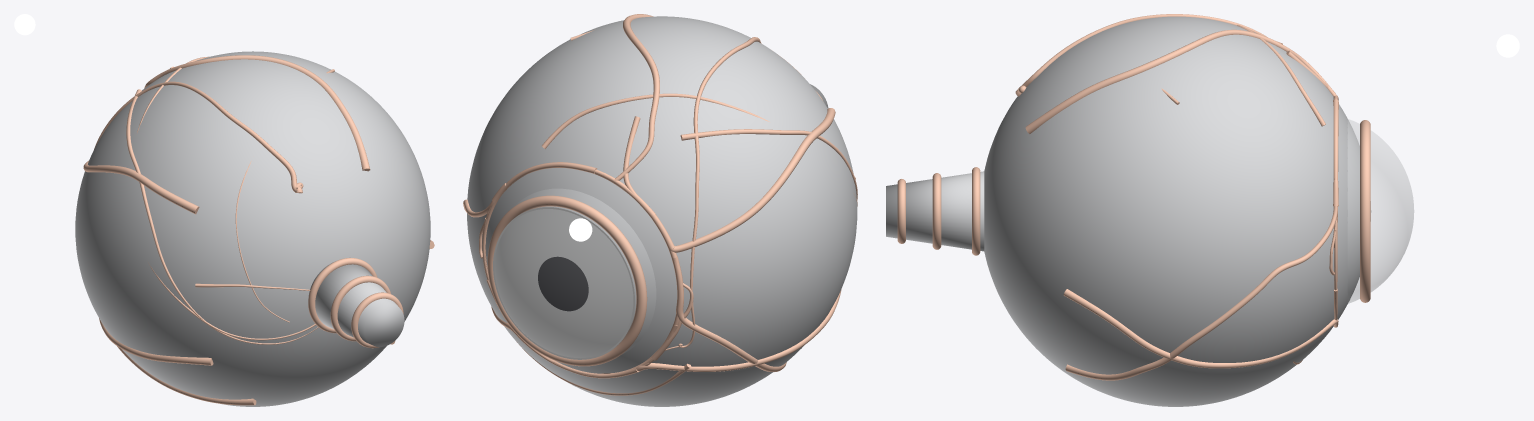
File: eyeball.glb
The picture shows the model from 3 angles, left to right: view 1: azimuth 30°, elevation 25°; view 2: azimuth 150°, elevation 25°; view 3: azimuth 270°, elevation 25°; orthographic projection. The views are drawn at different scales.
Visible parts, largest first — view 1: Sclera, Vessels, OpticNerve, NerveBand, NerveBand.001, NerveBand.002; view 2: Sclera, Cornea, Iris, Vessels, IrisRing, Pupil, Catchlight; view 3: Sclera, Vessels, Cornea, OpticNerve, IrisRing, NerveBand, NerveBand.001, NerveBand.002.
Boxes of the visible parts, <box> form: Sclera: <box>75,51,430,406</box>; Vessels: <box>83,55,434,405</box>; OpticNerve: <box>308,261,404,346</box>; NerveBand: <box>308,257,377,333</box>; NerveBand.001: <box>330,275,390,341</box>; NerveBand.002: <box>351,292,403,348</box>; Sclera: <box>467,16,857,406</box>; Cornea: <box>495,189,655,357</box>; Iris: <box>493,207,634,359</box>; Vessels: <box>463,14,857,395</box>; IrisRing: <box>487,195,647,366</box>; Pupil: <box>538,256,588,311</box>; Catchlight: <box>569,218,592,241</box>; Sclera: <box>984,16,1371,406</box>; Vessels: <box>1015,14,1338,380</box>; Cornea: <box>1348,119,1413,303</box>; OpticNerve: <box>886,171,984,251</box>; IrisRing: <box>1360,120,1370,302</box>; NerveBand: <box>972,167,980,255</box>; NerveBand.001: <box>932,173,941,249</box>; NerveBand.002: <box>897,179,905,243</box>.
Size of the model in its own units: 2 by 2.01 by 3.24.
